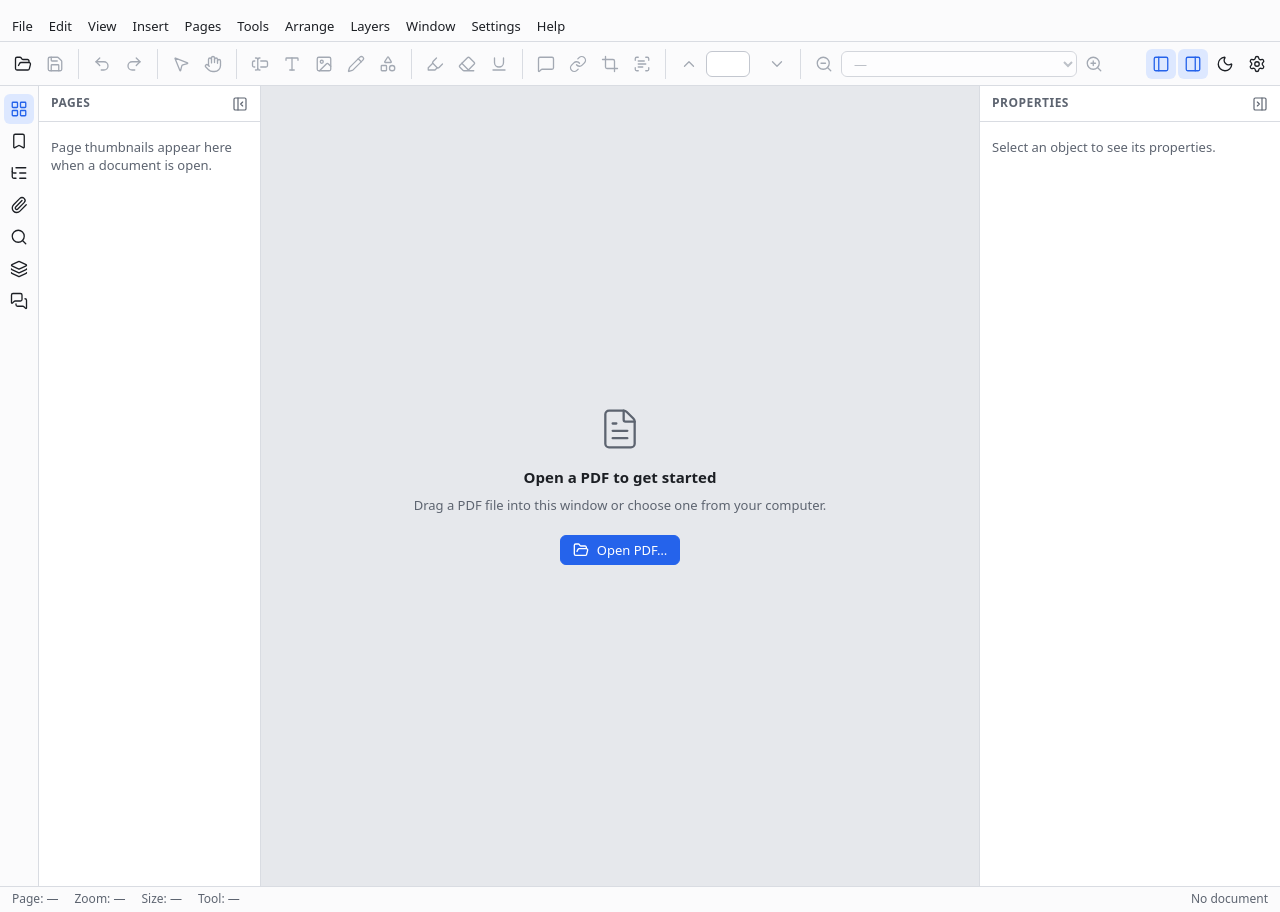
opening documents › switches view modes and steps by spreads in two-page mode
Later steps or results of the test are not shown.
Click the button named "Open…".
click(23, 64)  # box x1=8 y1=48 x2=38 y2=78
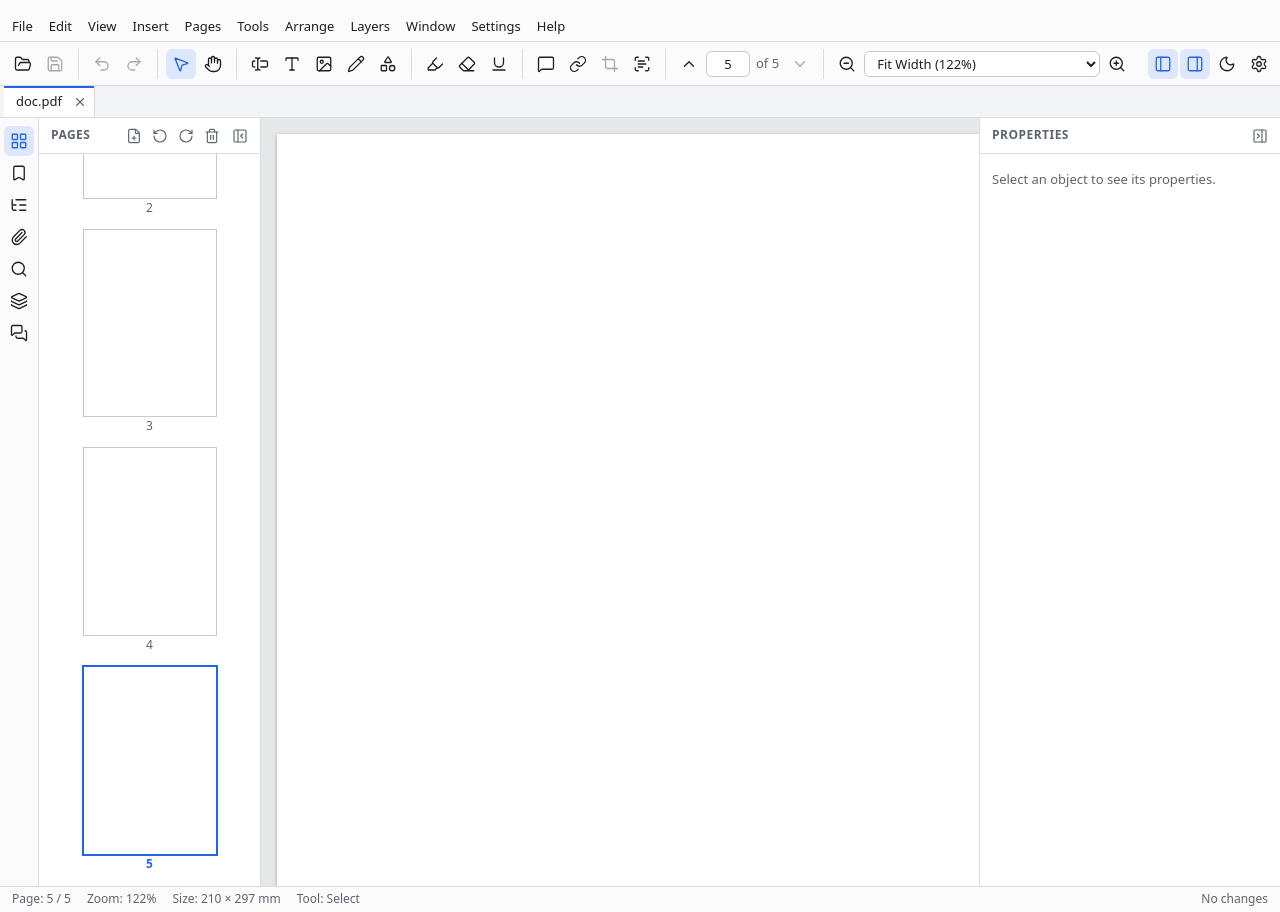
Check: the element with test id "status-page" shows "5 / 5", box x1=46 y1=890 x2=71 y2=907
